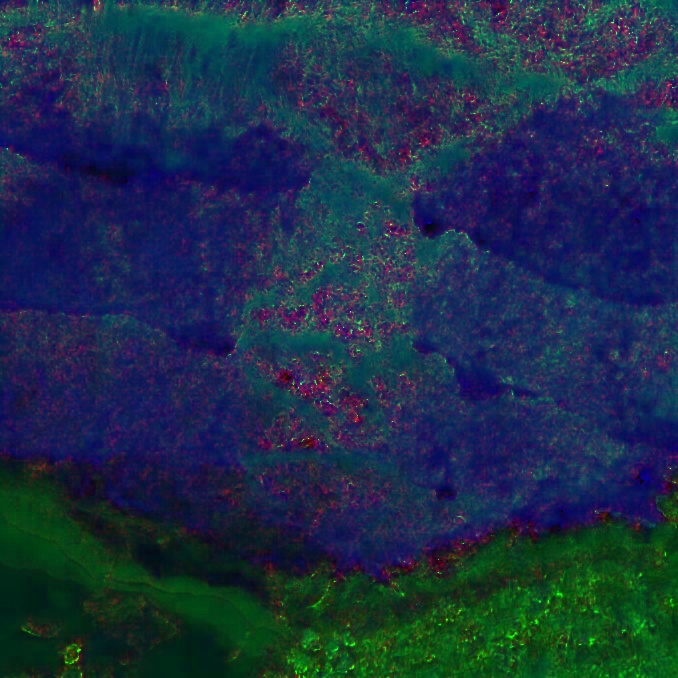rip_current: (203, 59, 494, 574)
